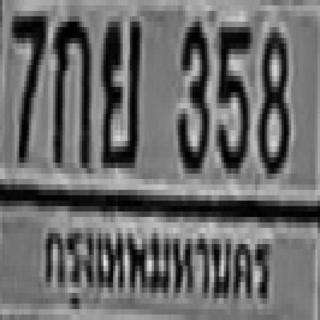A01: (50, 11, 89, 163)
A34: (99, 16, 140, 163)
N03: (176, 16, 207, 168)
N05: (214, 22, 250, 168)
N07: (10, 5, 43, 157)
N08: (258, 22, 286, 168)
P04: (38, 212, 274, 320)
